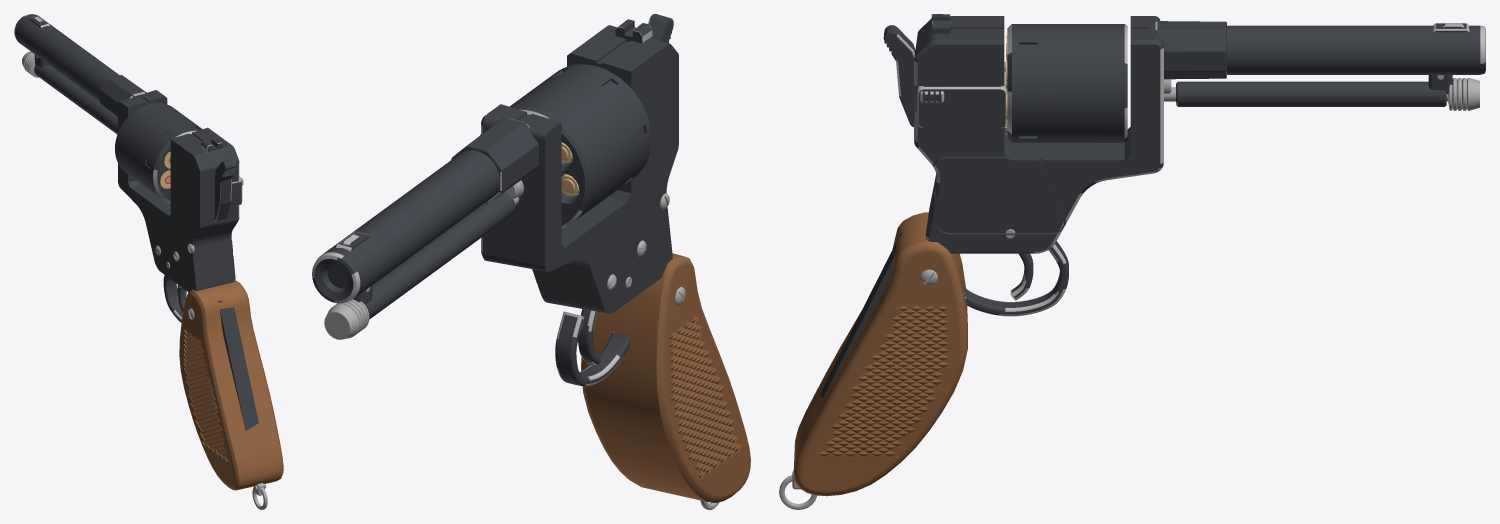
File: nagant.glb
The picture shows the model from 3 angles, left to right: view 1: azimuth 30°, elevation 25°; view 2: azimuth 150°, elevation 25°; view 3: azimuth 270°, elevation 25°; orthographic projection. The views are drawn at different scales.
Visible parts, largest first — view 1: static_frame, cylinder, hammer; view 2: static_frame, cylinder, ejector_rod, trigger, hammer; view 3: static_frame, cylinder, gate, hammer, ejector_rod.
Boxes of the visible parts, x1,y1,x2,y2 form: static_frame: [14, 14, 283, 509]; cylinder: [115, 103, 202, 203]; hammer: [214, 159, 236, 220]; static_frame: [312, 19, 750, 509]; cylinder: [480, 64, 651, 228]; ejector_rod: [324, 197, 519, 339]; trigger: [578, 309, 600, 364]; hammer: [648, 14, 673, 43]; static_frame: [779, 14, 1485, 509]; cylinder: [1004, 24, 1127, 142]; gate: [917, 83, 1007, 128]; hammer: [883, 25, 915, 126]; ejector_rod: [1164, 78, 1479, 110].
Bounding box in the file's own units: 0.0396 × 0.18 × 0.2349.
